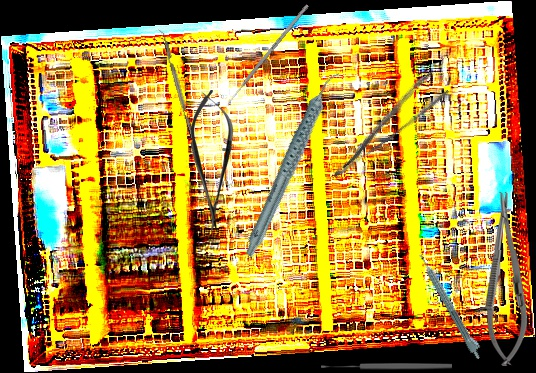Chopper: (155, 27, 195, 141)
Dressing Forceps: (317, 69, 452, 181)
Handpiece: (211, 69, 376, 259), (416, 250, 487, 361)
Micro Scissor: (190, 90, 233, 232)
Needle Holder: (483, 191, 529, 367)
Pusher: (223, 3, 310, 109)
Surgical Spoon: (321, 362, 452, 370)
